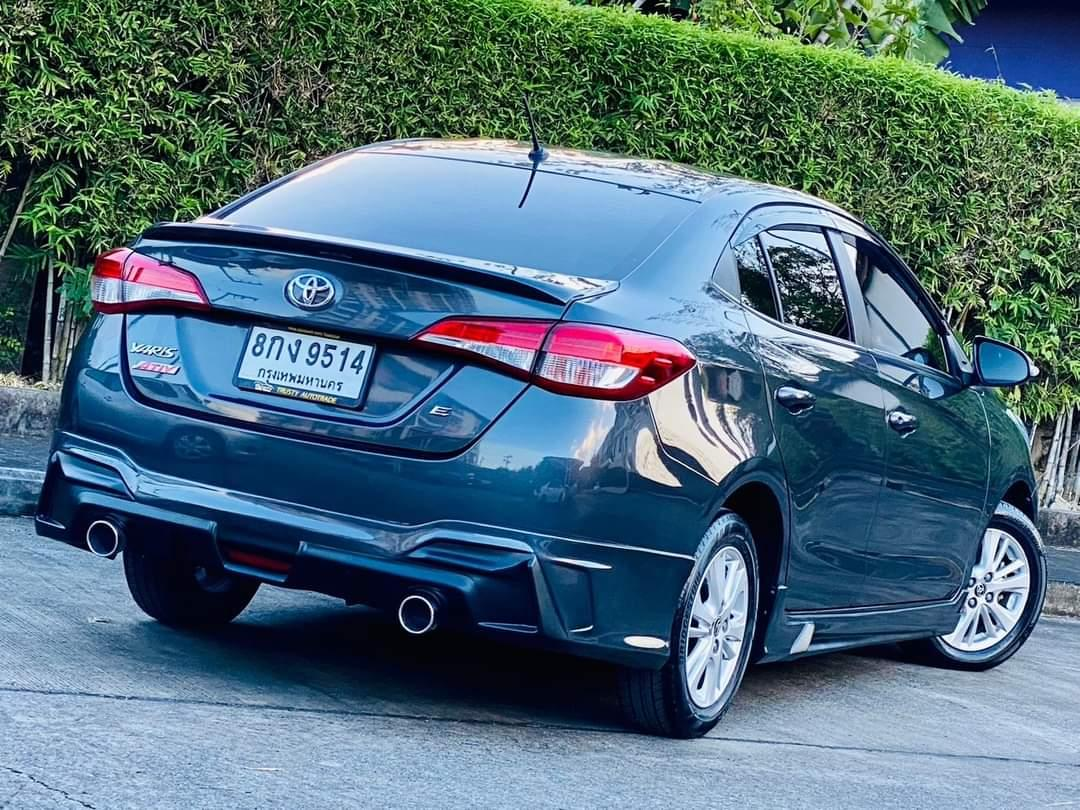license-plate: (234, 316, 382, 417)
